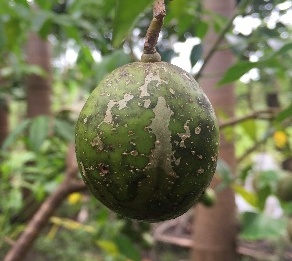Coc: (67, 54, 225, 227)
